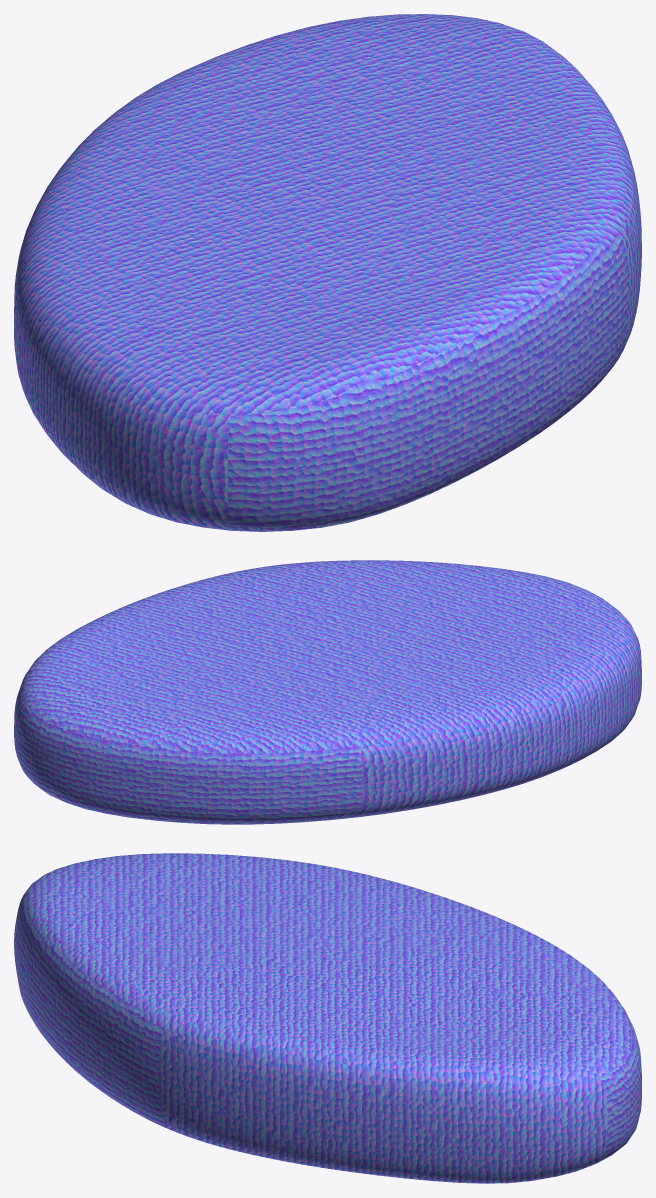
The model's file is levante_footstool_mirror.gltf.
3 renders of one model, top to bottom at view 1: azimuth 30°, elevation 25°; view 2: azimuth 150°, elevation 25°; view 3: azimuth 270°, elevation 25°, orthographic. The views are drawn at different scales.
Visible parts, largest first — view 1: footstool001; view 2: footstool001; view 3: footstool001.
Part boxes in pixels (x1=…): footstool001: x1=14, y1=14, x2=641, y2=531; footstool001: x1=14, y1=560, x2=641, y2=824; footstool001: x1=14, y1=853, x2=641, y2=1183.
Size of the model in its own units: 0.9145 by 0.215 by 0.9697.
1 material, 1 textured.
